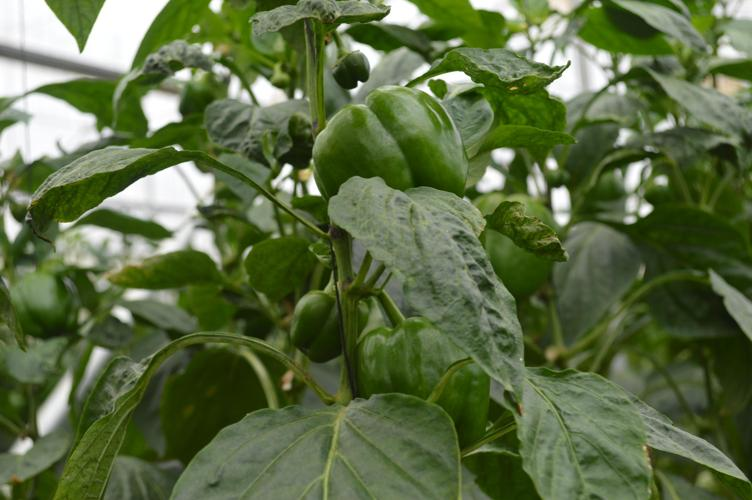BellPepper: (313, 85, 477, 231), (350, 321, 480, 436), (7, 264, 98, 349), (286, 281, 359, 363)
